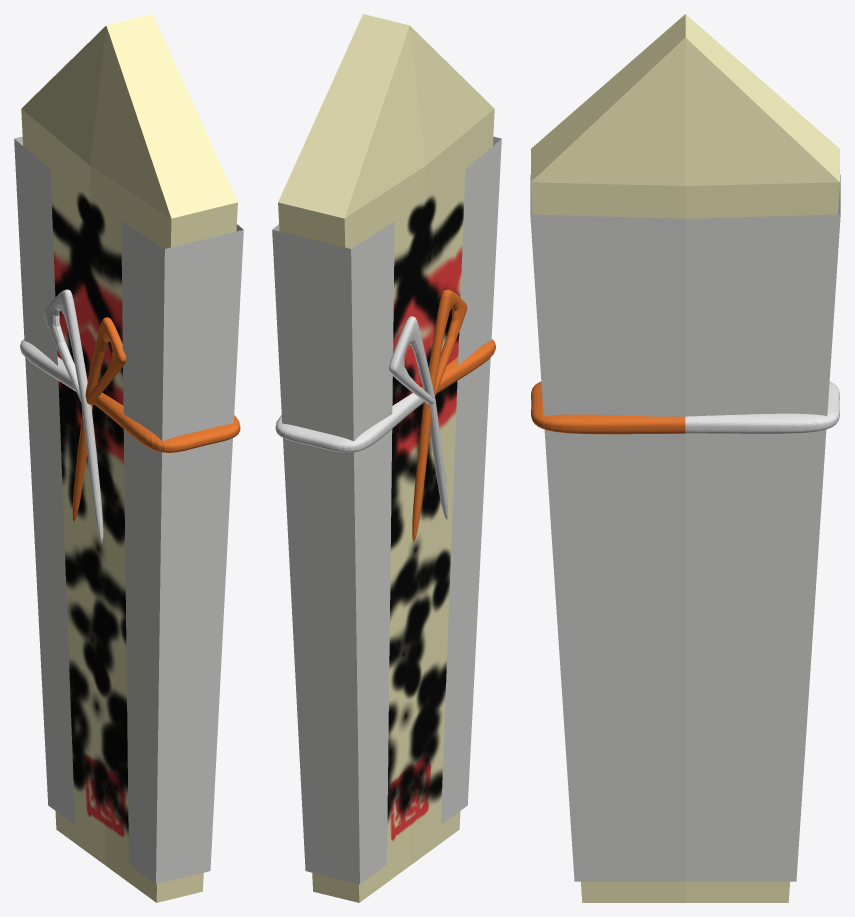
File: huda.fbx
3 renders of one model, left to right at view 1: azimuth 30°, elevation 25°; view 2: azimuth 150°, elevation 25°; view 3: azimuth 270°, elevation 25°, orthographic. The views are drawn at different scales.
Visible parts, largest first — view 1: Cube, Cube.002, Cube.001; view 2: Cube, Cube.002, Cube.001; view 3: Cube, Cube.001.
Boxes of the visible parts, x1=… form: Cube: x1=14, y1=14, x2=243, y2=902; Cube.002: x1=44, y1=289, x2=126, y2=543; Cube.001: x1=20, y1=339, x2=240, y2=452; Cube: x1=272, y1=14, x2=501, y2=902; Cube.002: x1=389, y1=289, x2=467, y2=542; Cube.001: x1=275, y1=339, x2=495, y2=452; Cube: x1=530, y1=14, x2=840, y2=902; Cube.001: x1=531, y1=381, x2=839, y2=434.
Size of the model in its own units: 9.23 by 76.56 by 24.89.
